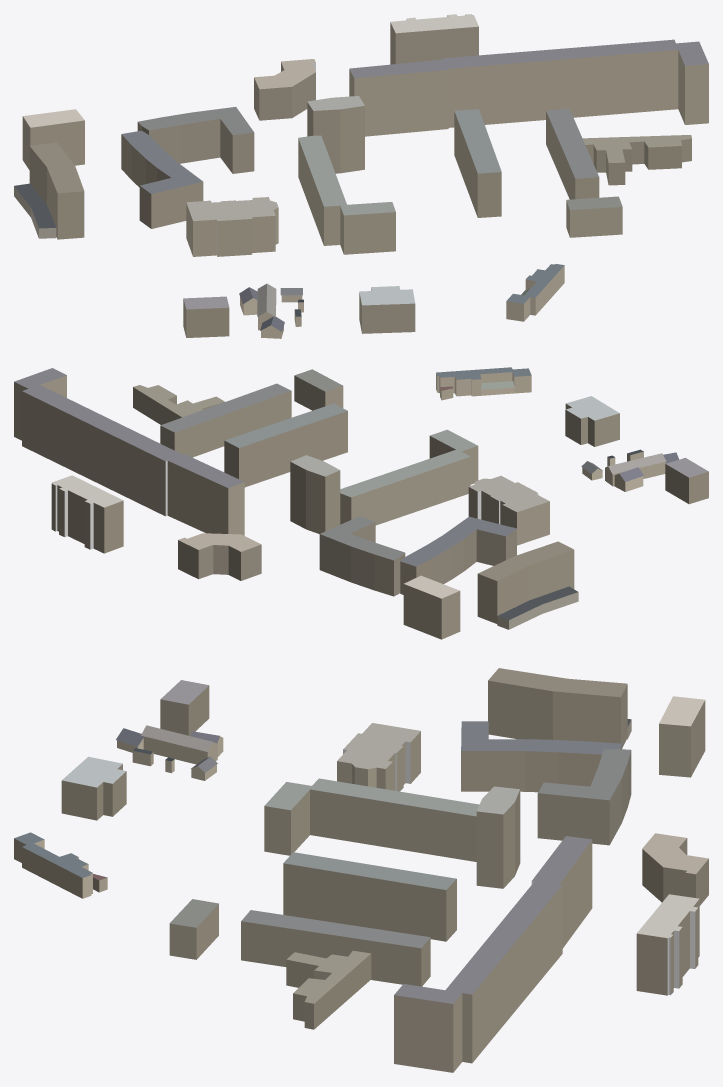
The picture shows the model from 3 angles, top to bottom: view 1: azimuth 30°, elevation 25°; view 2: azimuth 150°, elevation 25°; view 3: azimuth 270°, elevation 25°; orthographic projection. The views are drawn at different scales.
Visible parts, largest first — view 1: tuile; view 2: tuile; view 3: tuile.
Part boxes in pixels (x1,y1,x2,y2): tuile: (14, 14, 708, 338); tuile: (14, 367, 708, 639); tuile: (14, 668, 708, 1072).
Size of the model in its own units: 319 by 33.6 by 261.
